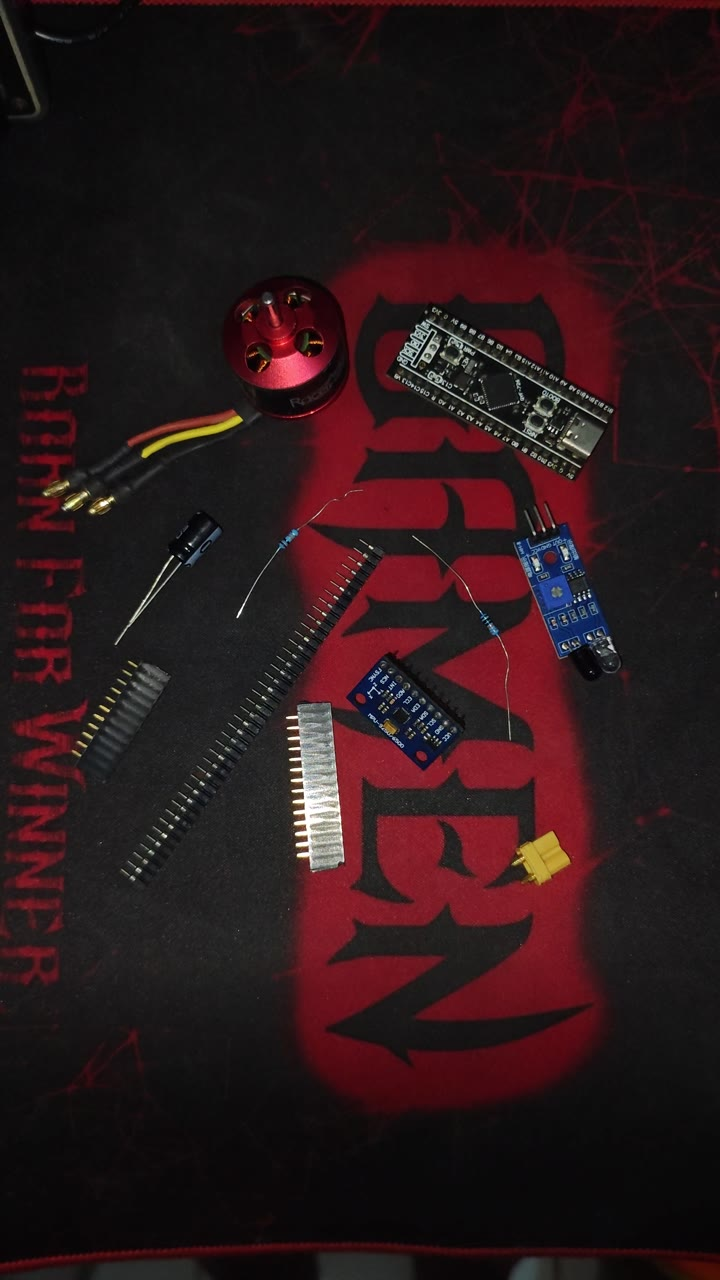bldc_motor: (43, 225, 354, 484)
elco_capacitor: (103, 487, 178, 592)
ir_sensor: (461, 519, 587, 654)
mpu6500: (342, 663, 454, 761)
pin_header: (104, 721, 249, 860), (236, 670, 340, 858), (55, 644, 108, 790)
resistor: (208, 497, 303, 580), (404, 560, 475, 649)
stm32f4: (384, 299, 622, 459)
xt30_female: (481, 785, 563, 867)
